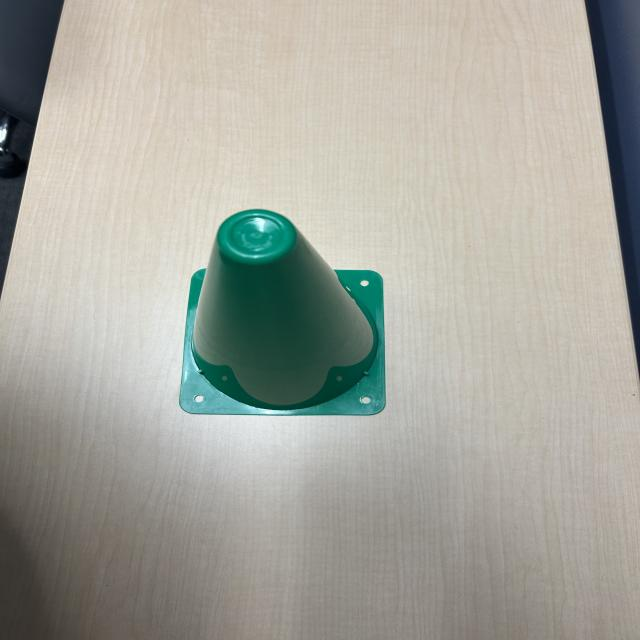green cone: (176, 205, 396, 422)
